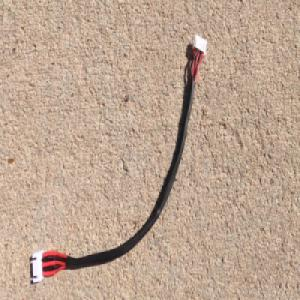Wire: (28, 26, 207, 281)
